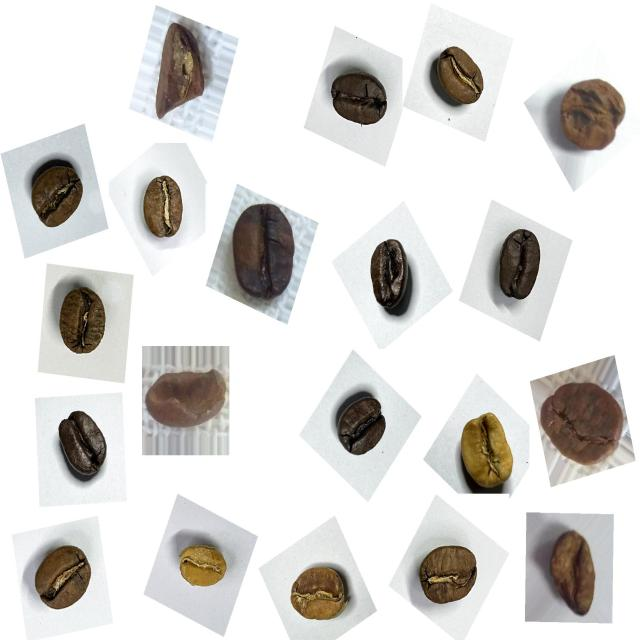bad: (530, 367, 633, 480), (222, 188, 308, 308), (531, 517, 610, 627), (146, 13, 222, 127), (546, 67, 632, 166), (142, 351, 231, 444)
dark: (482, 218, 553, 316), (322, 381, 398, 472), (353, 228, 422, 325), (322, 54, 396, 140), (48, 396, 115, 488)
light: (446, 397, 526, 499), (169, 530, 237, 604)
medium: (409, 532, 489, 618), (25, 533, 101, 622), (21, 148, 93, 241), (280, 554, 360, 637), (49, 281, 122, 370), (424, 37, 495, 119), (133, 168, 196, 250)
